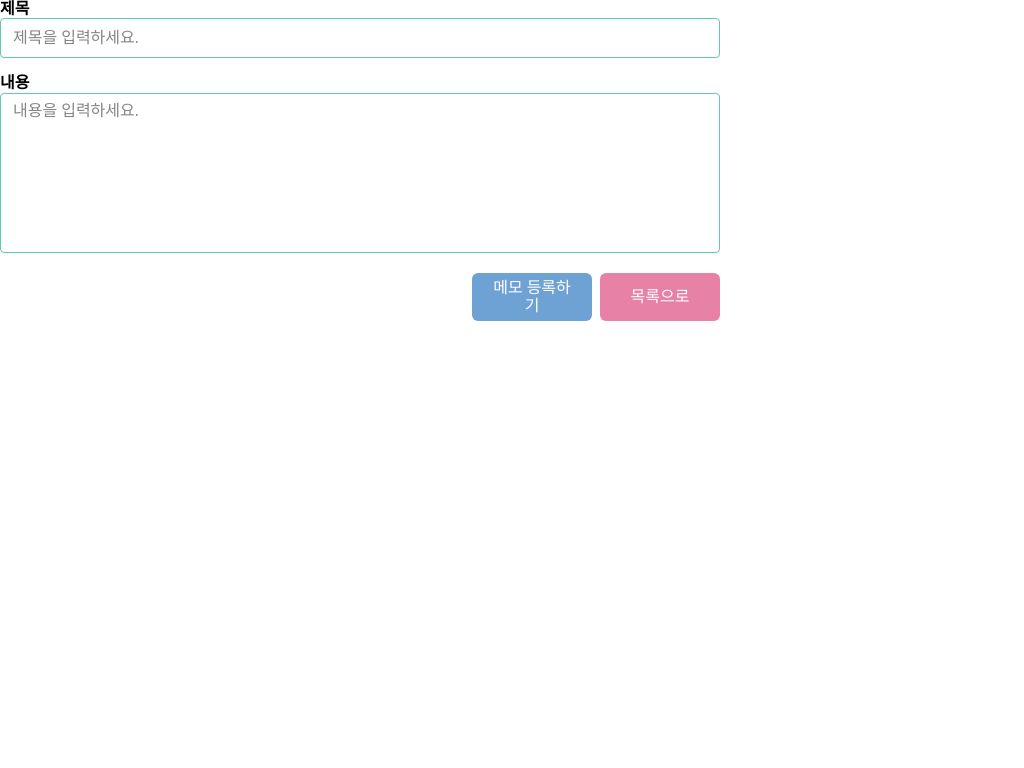
Scenario: 메모 등록 기능 테스트 › 입력창을 모두 입력하지 않으면 메모가 등록되지 않고 예외가 발생한다.
Type "메모" into the field labelled "제목" at (360, 38), box left=0, top=18, right=720, bottom=58
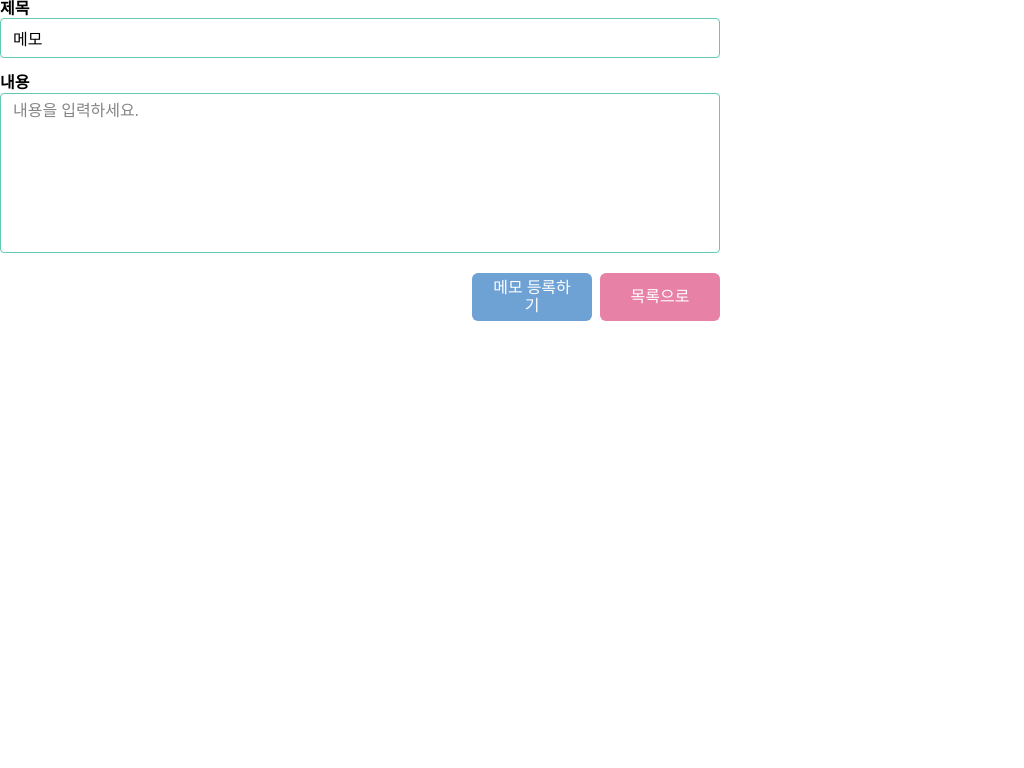
Click the button "메모 등록하기" at (532, 297), box left=472, top=273, right=592, bottom=321
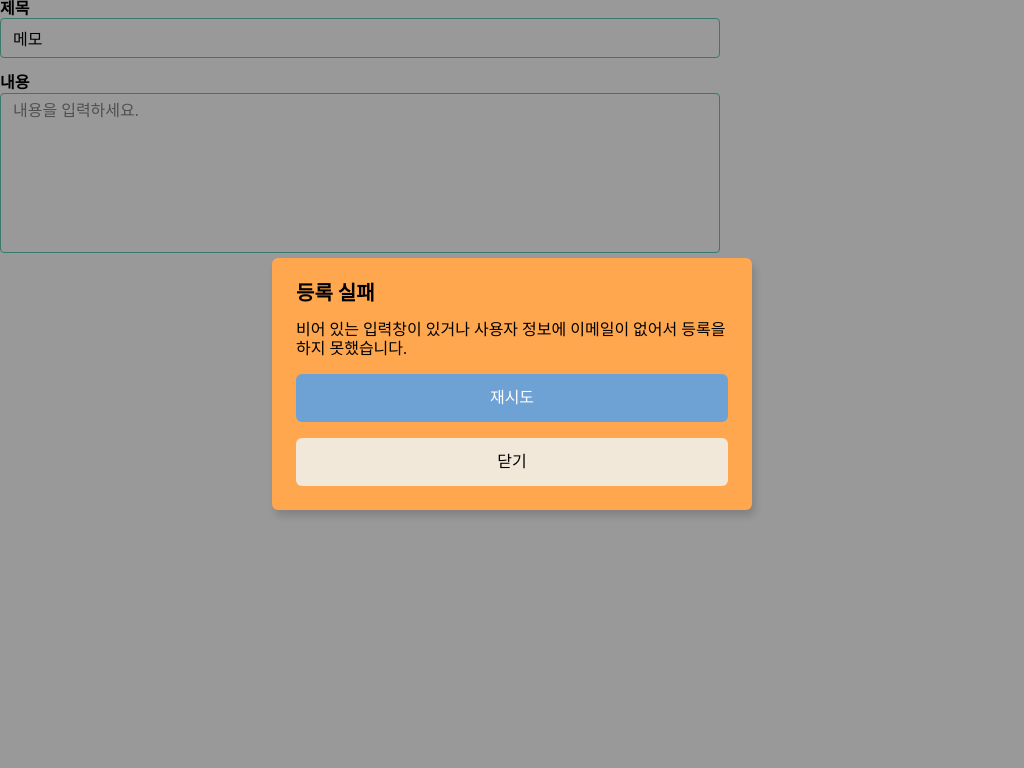
Now the heading "등록 실패" is shown, box left=296, top=282, right=375, bottom=304
Now the text "비어 있는 입력창이 있거나 사용자 정보에 이메일이 없어서 등록을 하지 못했습니다." is shown, box left=296, top=321, right=728, bottom=358
